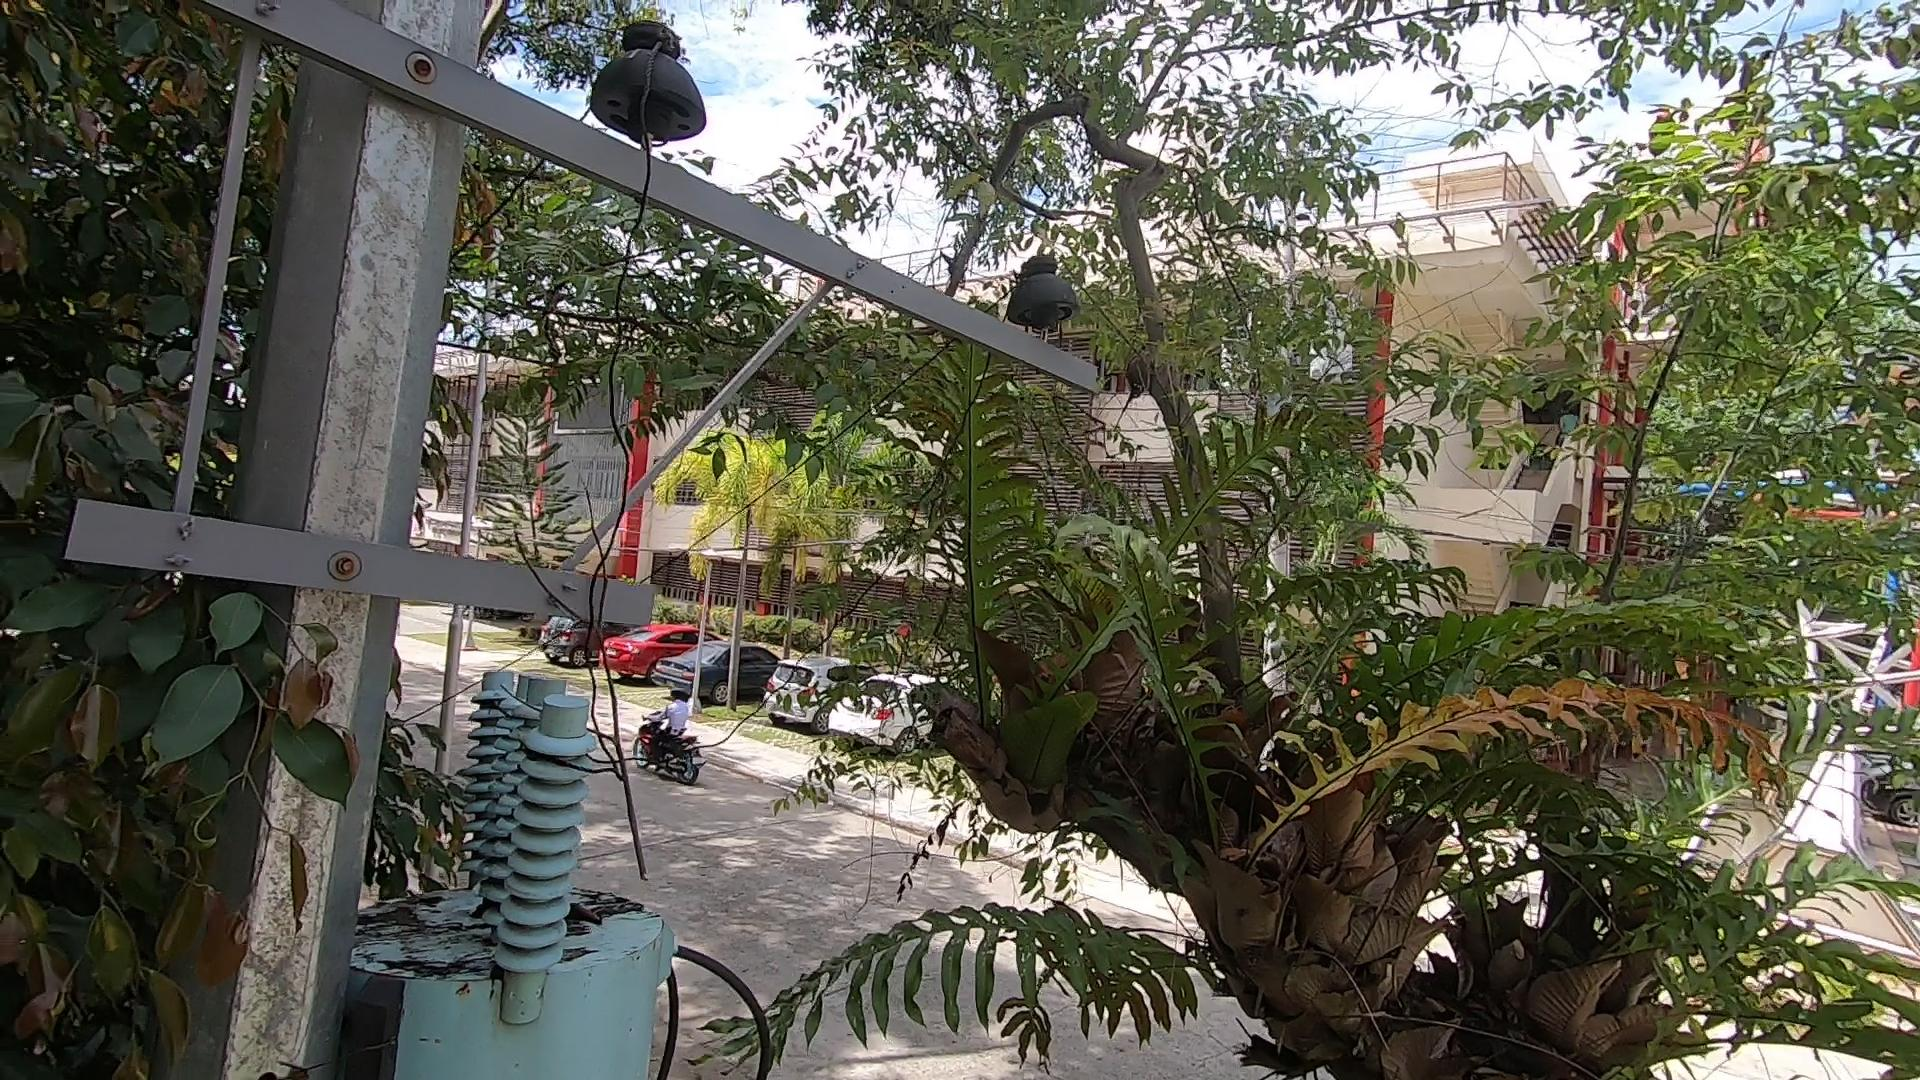leaf: (558, 891, 615, 935)
tree branch: (495, 468, 713, 889)
